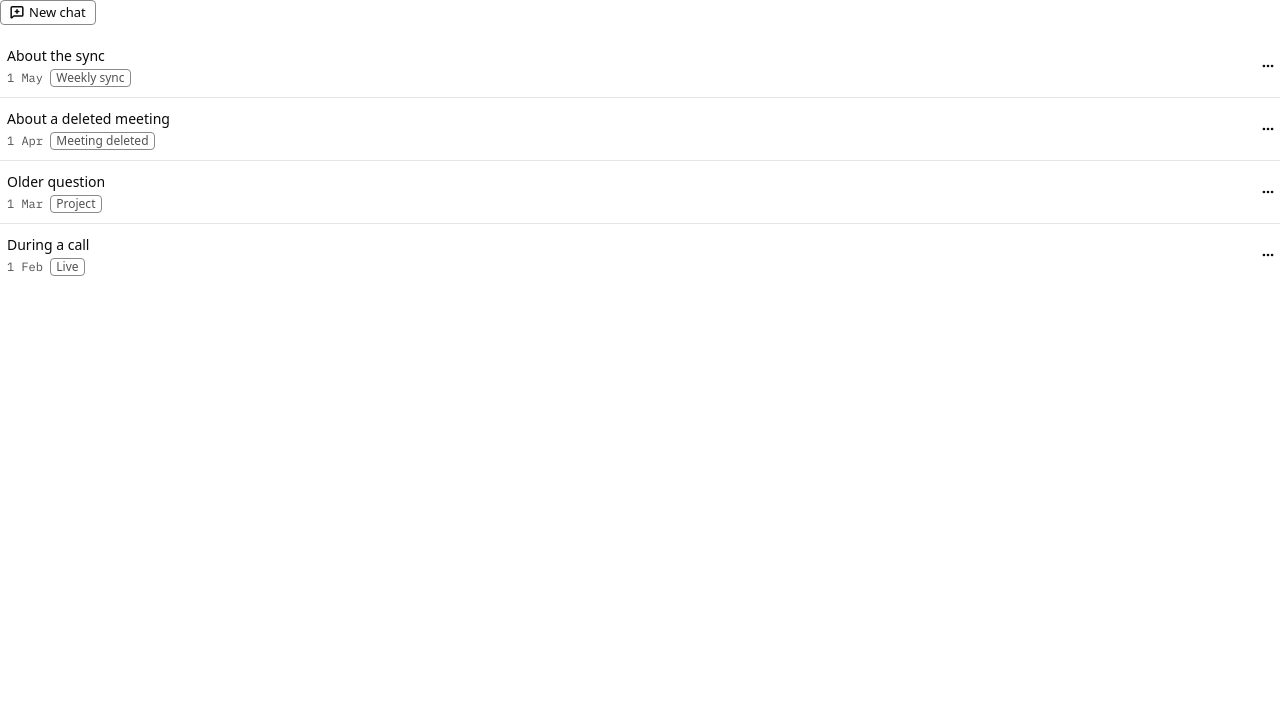
Scenario: ChatThreadList › deletes after a confirmation
What coordinates should you click on to do the following:
click the button named "Actions for During a call"
I would click on:
 (1268, 255)
Its box is x1=1256 y1=243 x2=1279 y2=267.
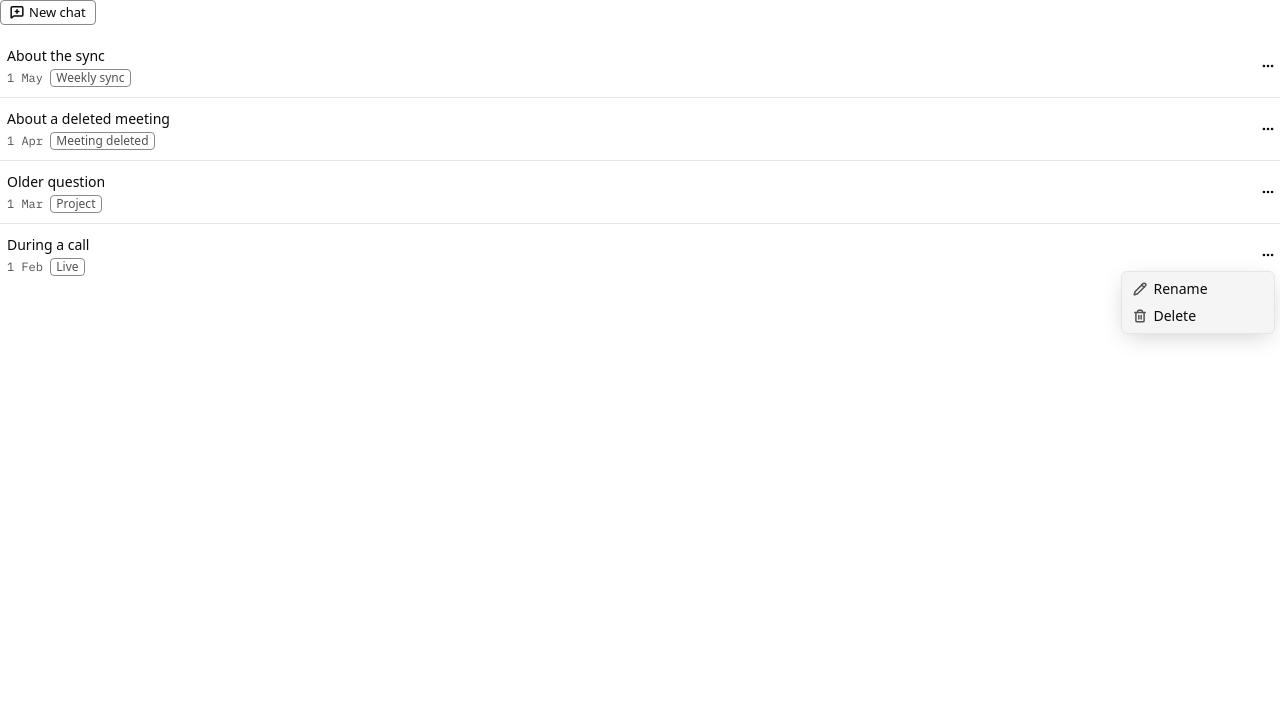
What coordinates should you click on to do the following:
click the menu item "Delete"
I would click on:
 (1164, 316)
Its box is x1=1132 y1=306 x2=1196 y2=325.
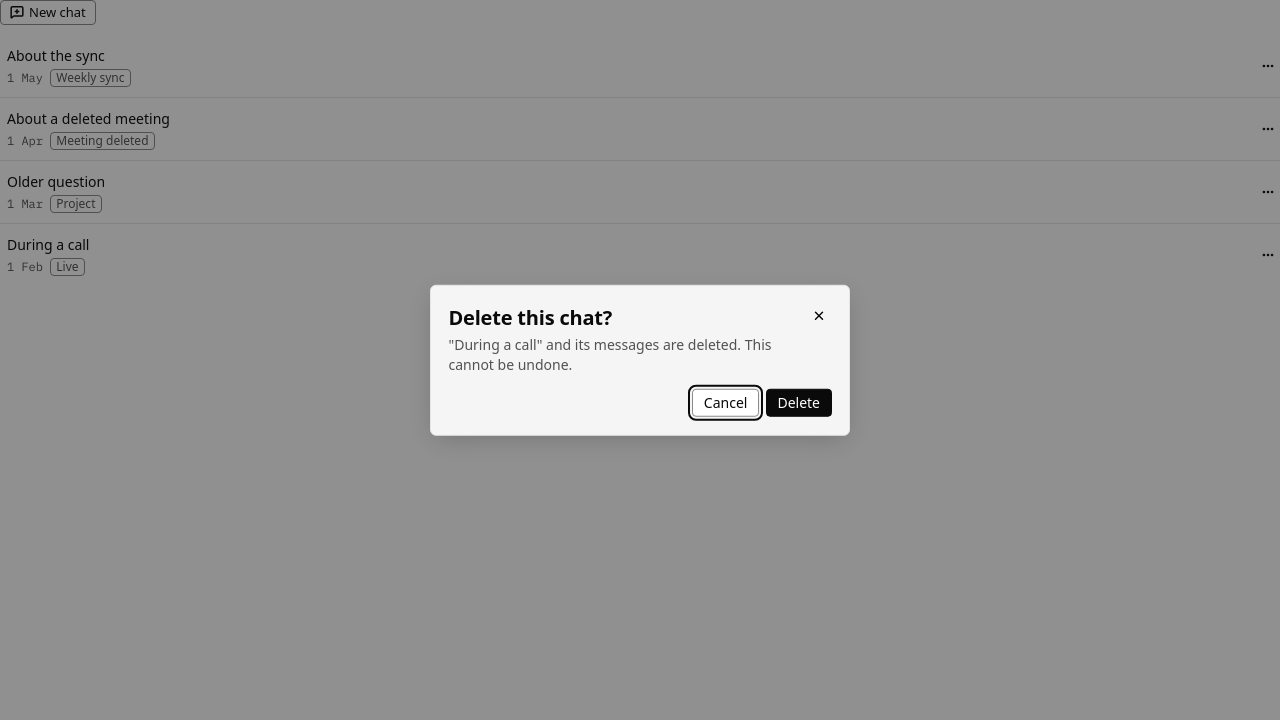
What coordinates should you click on to do the following:
click the button "Delete"
I would click on:
 (799, 403)
Its box is x1=766 y1=389 x2=832 y2=417.
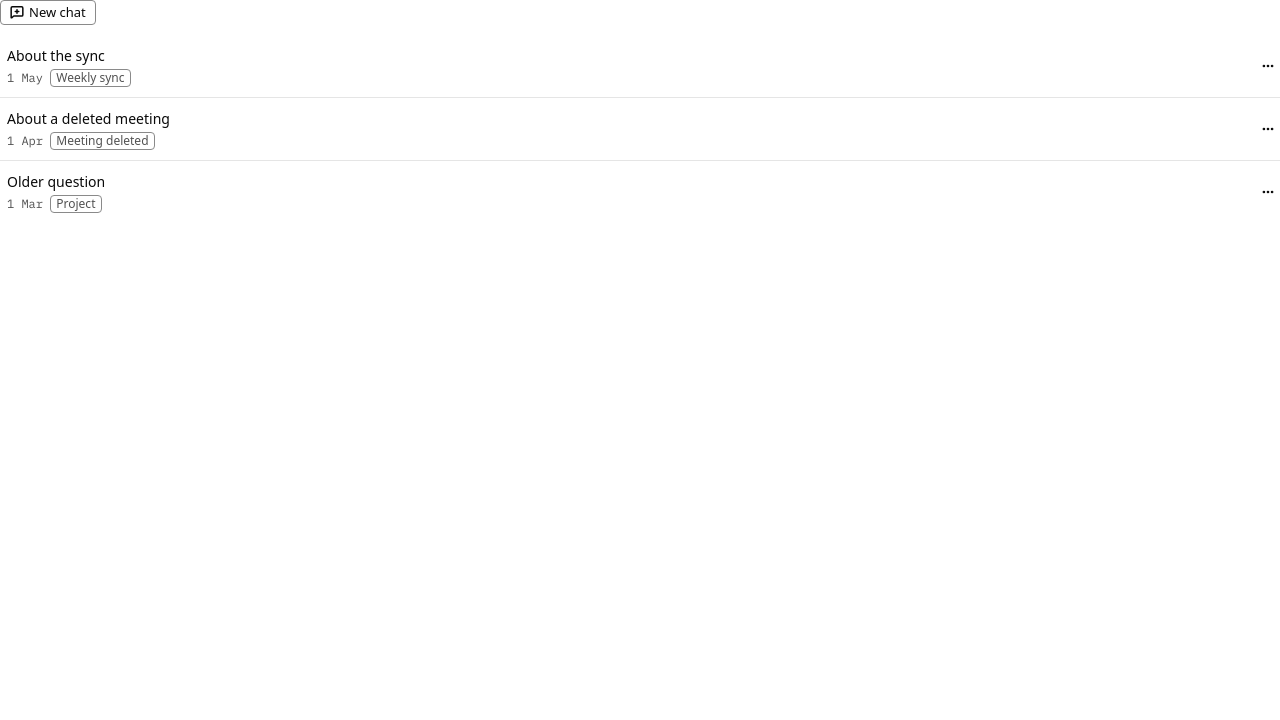
Expected: the button "During a call" no longer shows "During a call"
